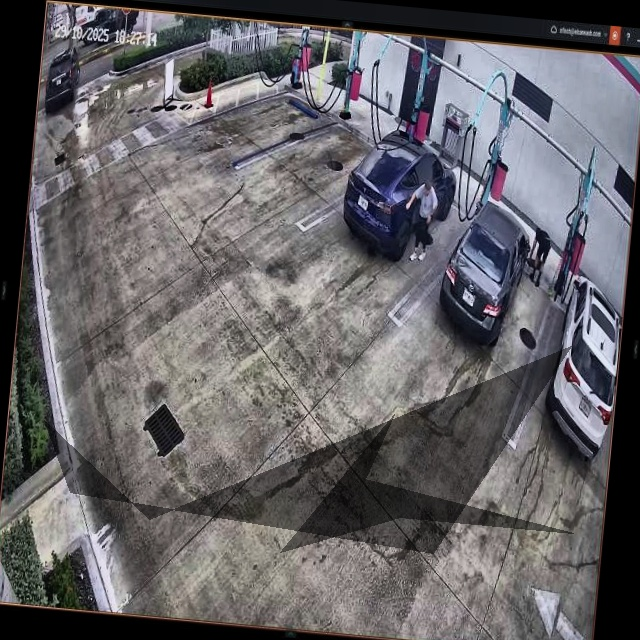Car: (340, 126, 462, 257), (439, 202, 534, 345)
